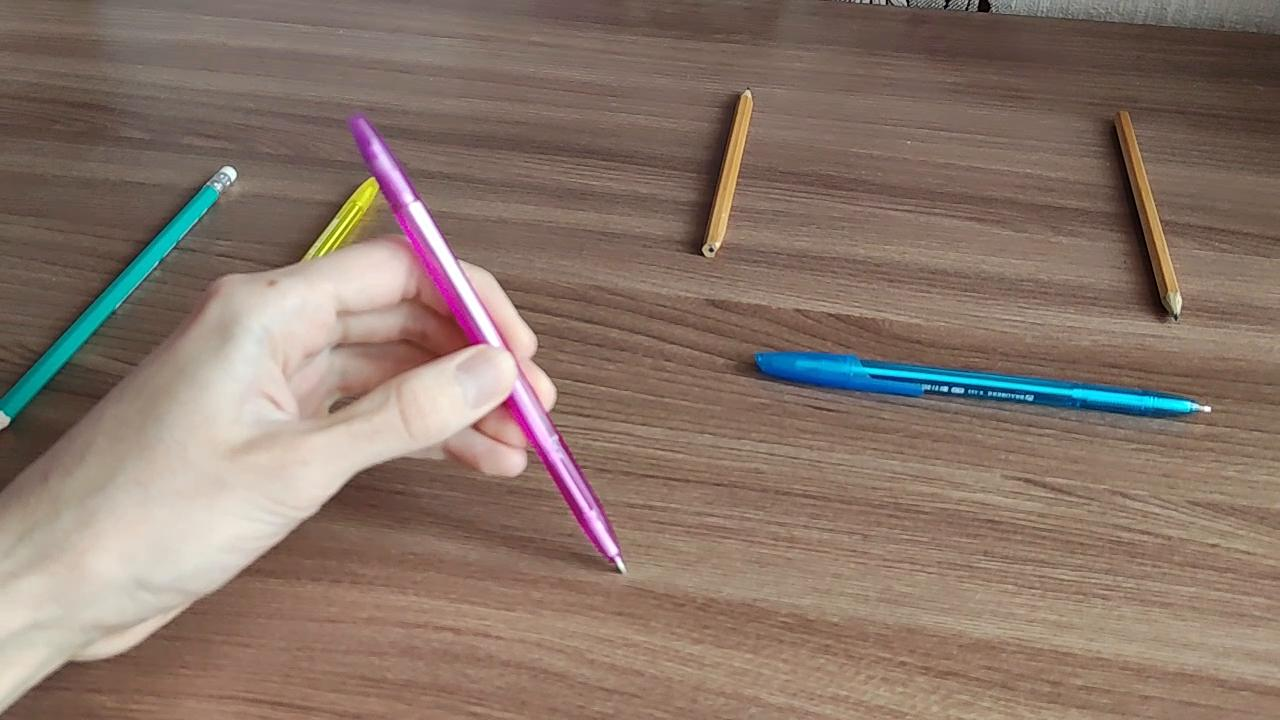pen: (350, 112, 626, 574), (750, 349, 1215, 424), (299, 172, 381, 265)
pencil: (0, 165, 247, 433), (1113, 107, 1186, 324), (700, 85, 761, 256)
